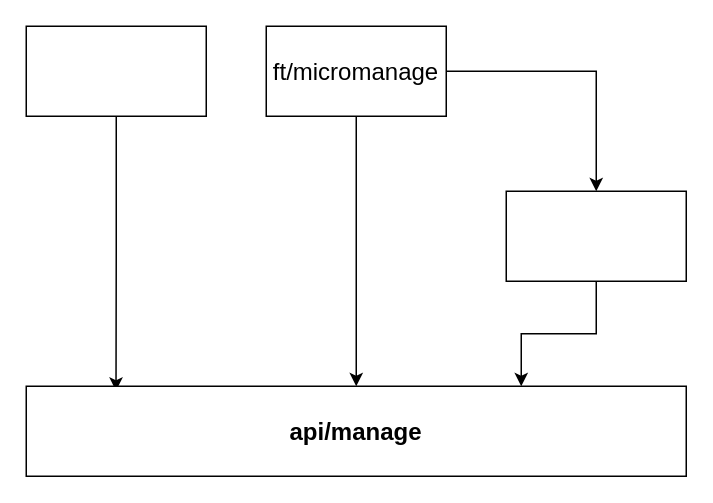
The diagram is 713 pixels wide and 503 high, and some of its shapes have lost their labels. Each missing label, with the centre of its shape:
"ft/manage" goes at point (115, 70).
"ft/media" goes at point (595, 235).
